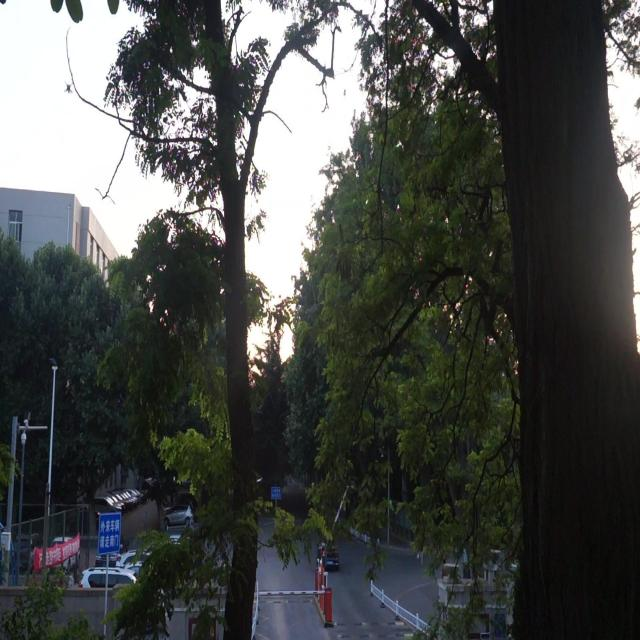drone: (62, 77, 74, 96)
